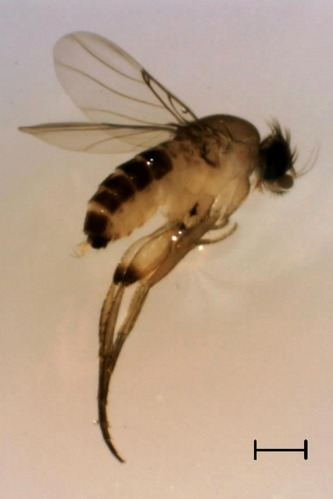phorid fly: (14, 22, 321, 485)
